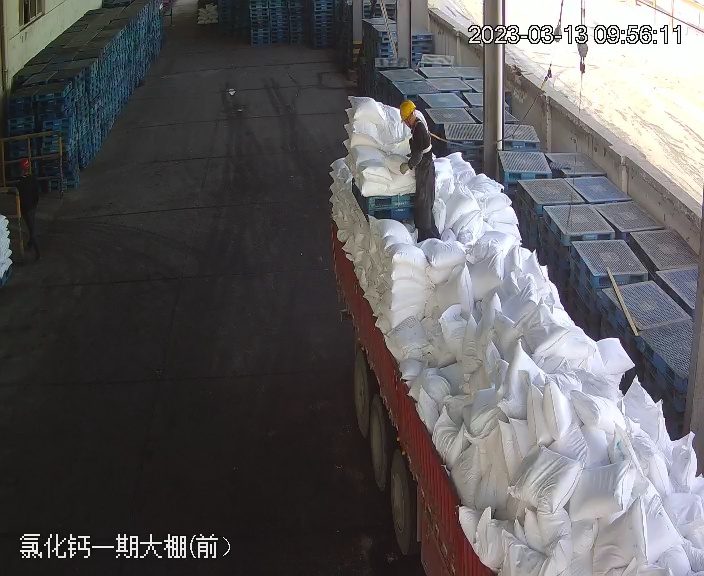belt: (411, 118, 440, 153)
head: (398, 100, 433, 137)
helmet: (398, 99, 416, 121)
people: (398, 99, 441, 243)
truck: (312, 108, 697, 573)
